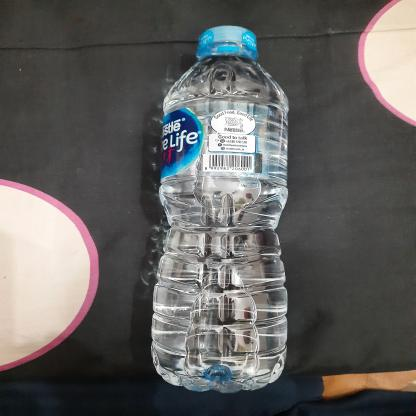bottle: (148, 23, 292, 399)
